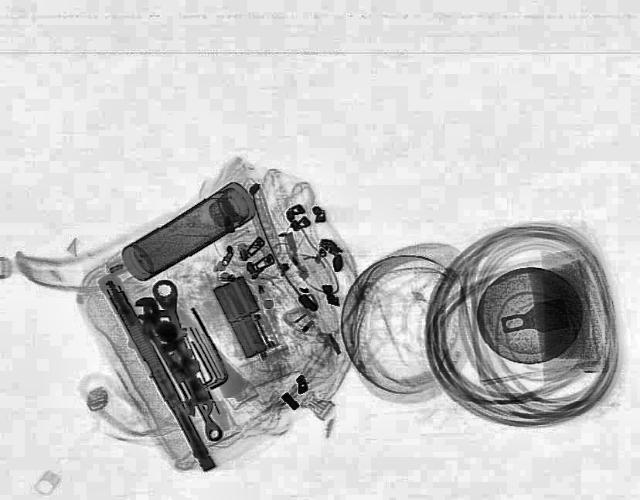Wrench: (130, 294, 226, 444)
